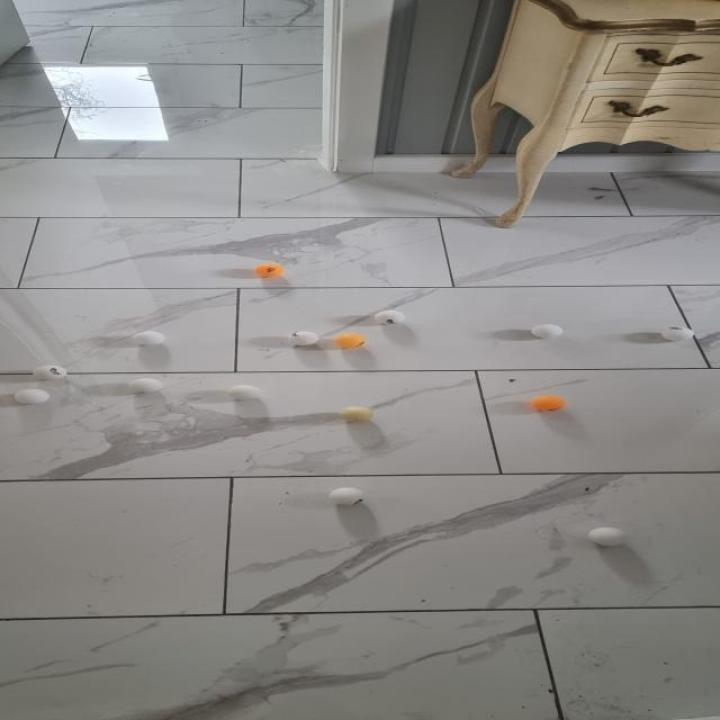orange: (531, 395, 567, 411), (335, 333, 366, 348), (256, 263, 284, 277)
white: (589, 527, 628, 546), (329, 488, 366, 505), (339, 406, 375, 422), (13, 389, 50, 404), (226, 385, 261, 400), (132, 331, 166, 346), (531, 324, 564, 339), (129, 378, 162, 393), (662, 327, 696, 341), (34, 366, 68, 380), (374, 311, 407, 325), (288, 331, 320, 345)
